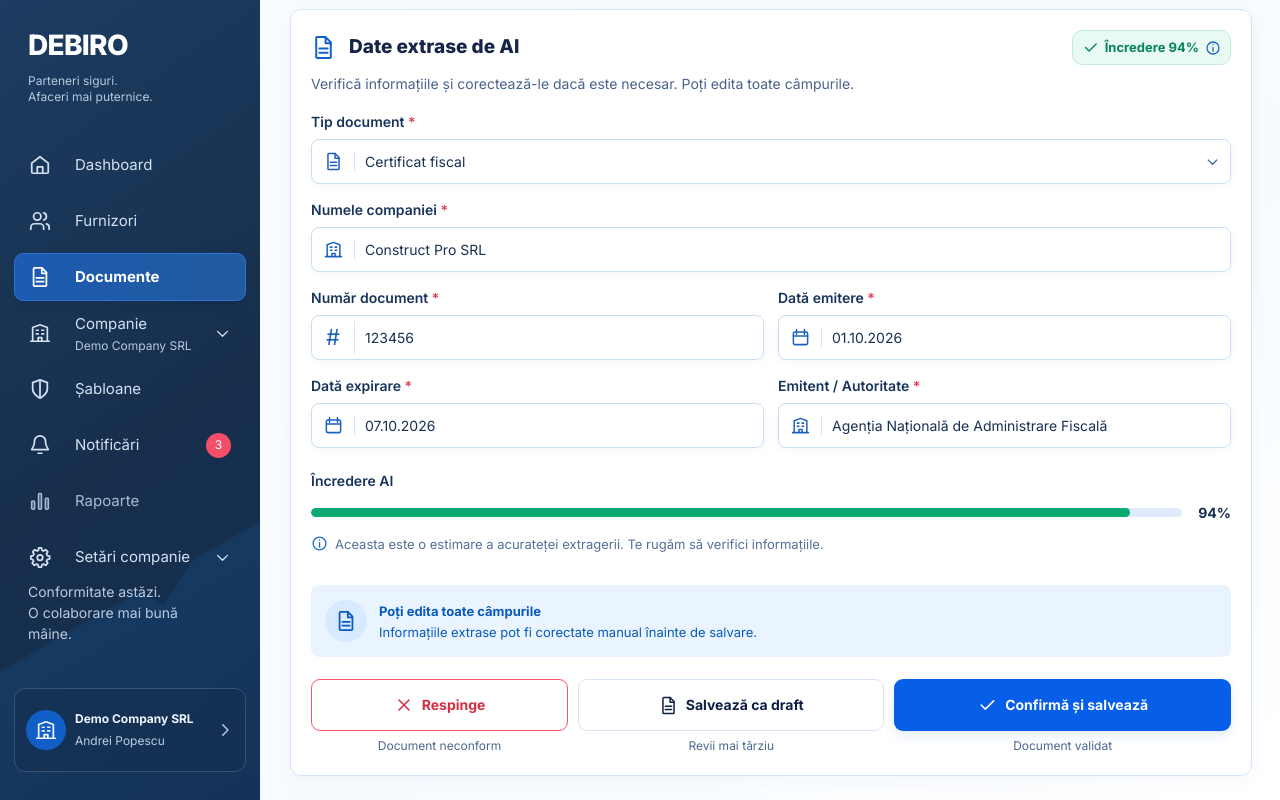
Test case: document review › requires confirmation before rejection and prevents any further outcome
(page scrolled)
Click the button "Respinge" at (440, 705), box [311,679,568,731]
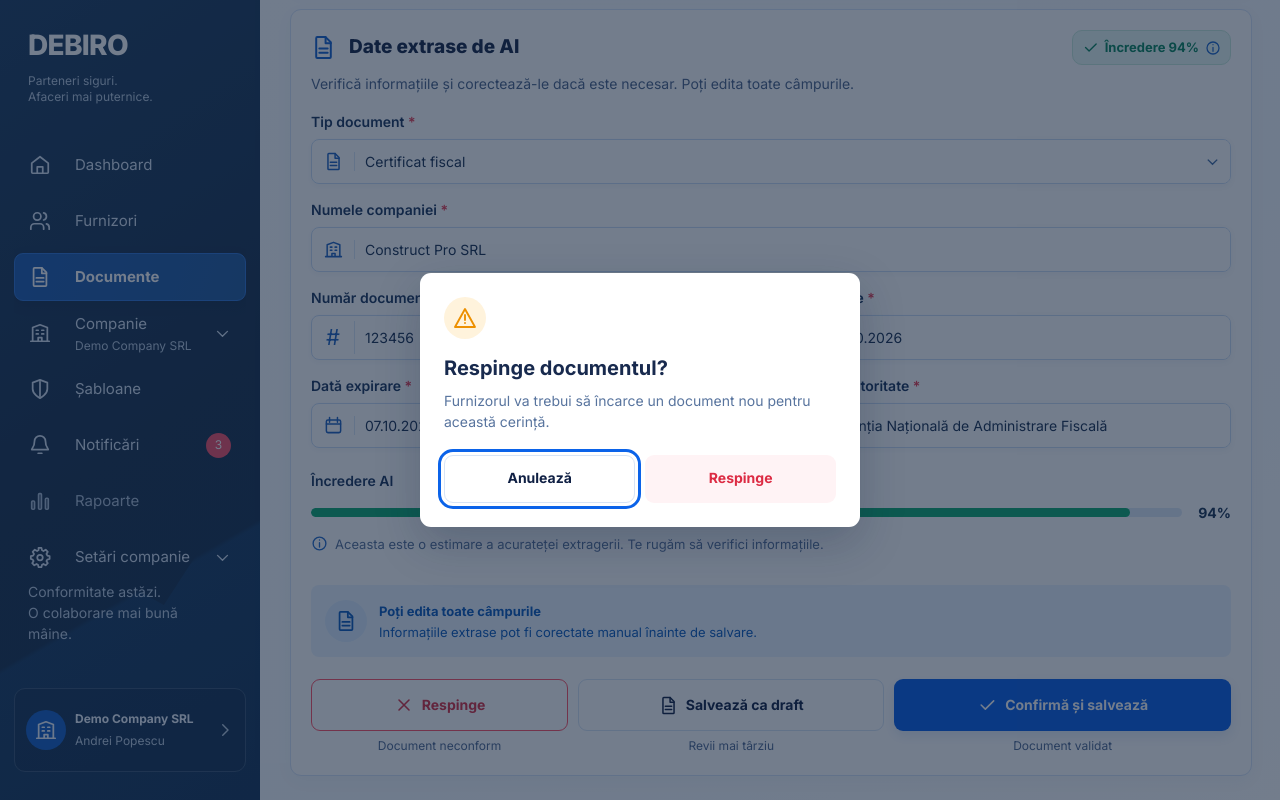
Now the dialog "Respinge documentul?" shows "Furnizorul va trebui să încarce un document nou pentru această cerință.", box [444,392,810,430]
Click the button "Respinge" at (741, 479), box [645,455,836,503]
(page scrolled)
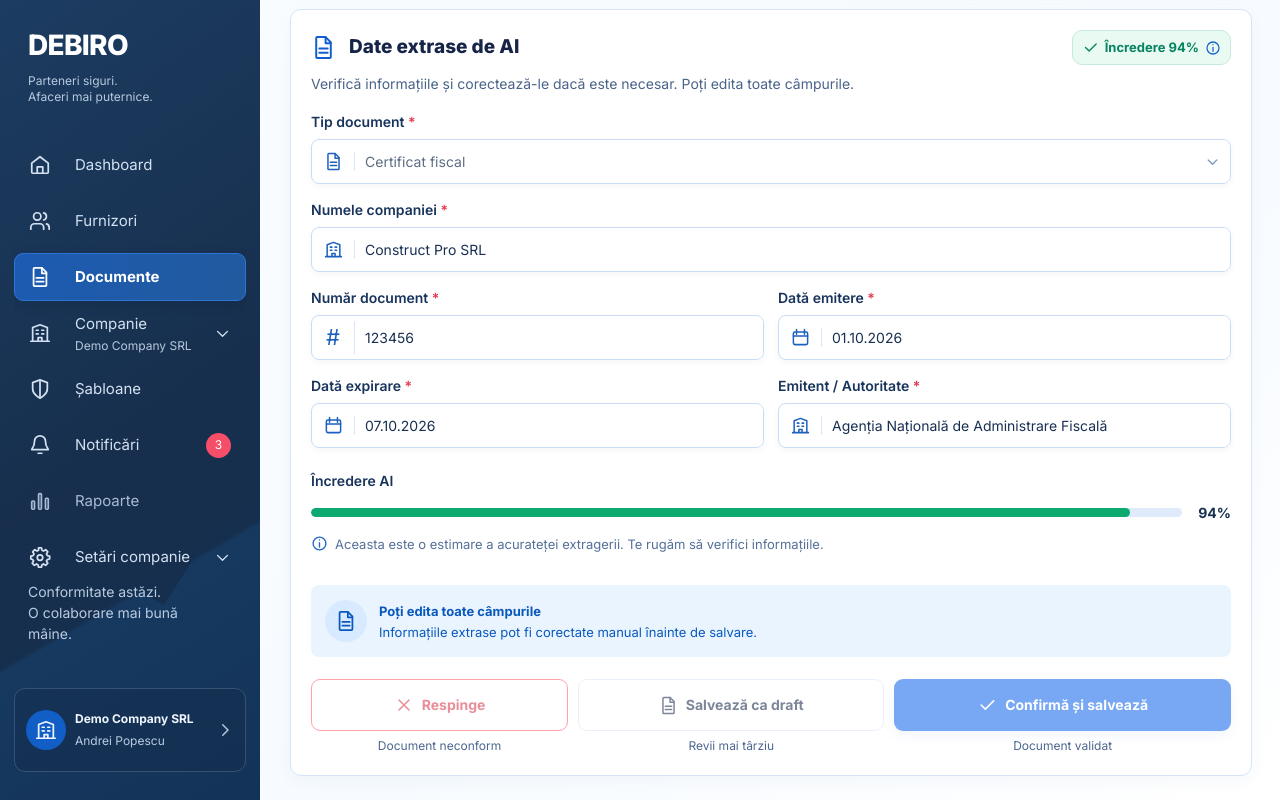
Now the button "Confirmă și salvează" is disabled, box [894,679,1231,731]
Now the button "Respinge" is disabled, box [311,679,568,731]
